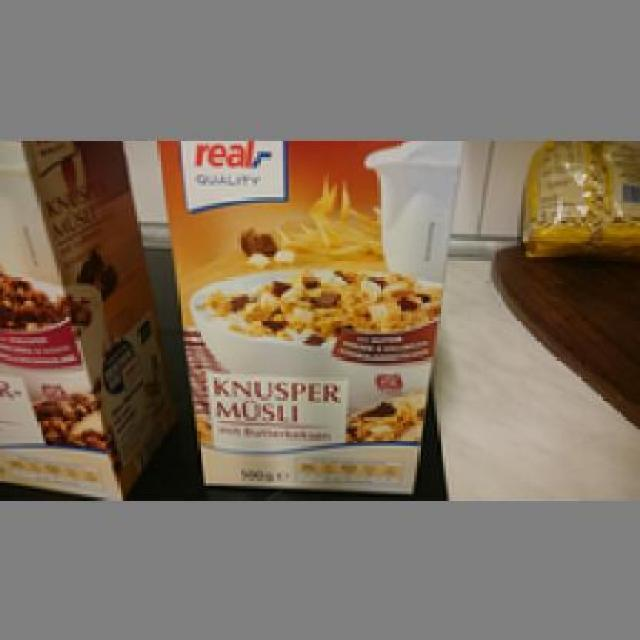Cereal: (150, 137, 464, 490), (0, 137, 146, 500)
